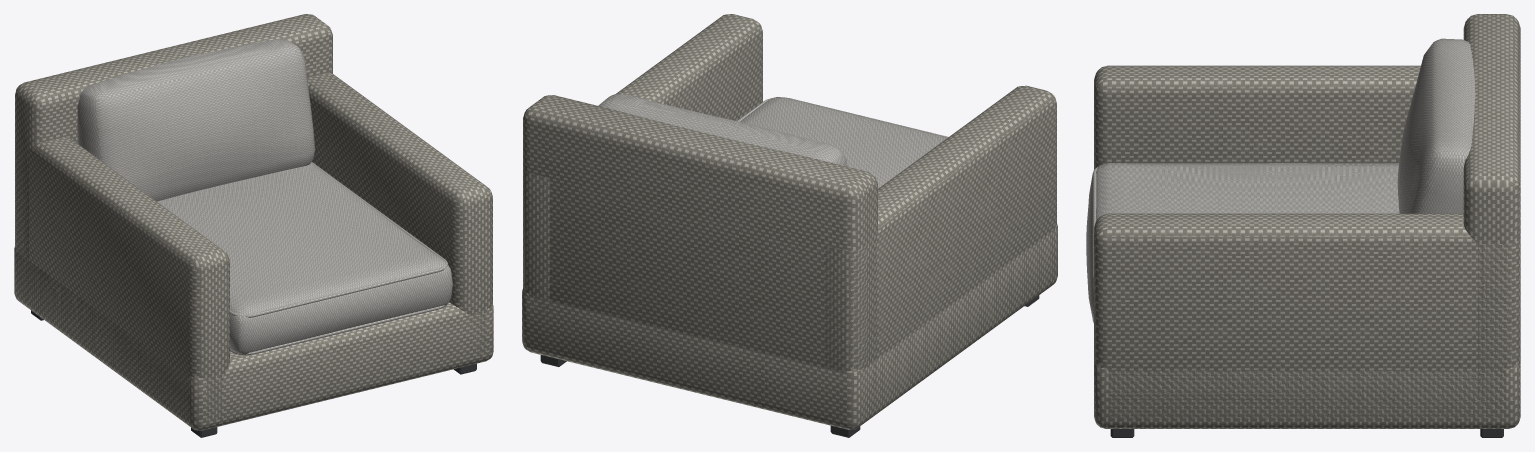
The model's file is sillon_chillout_bajo_gris.glb.
3 renders of one model, left to right at view 1: azimuth 30°, elevation 25°; view 2: azimuth 150°, elevation 25°; view 3: azimuth 270°, elevation 25°, orthographic. The views are drawn at different scales.
Visible parts, largest first — view 1: sillon_chillout_bajo_gris; view 2: sillon_chillout_bajo_gris; view 3: sillon_chillout_bajo_gris.
Boxes of the visible parts, bbox=[...] form: sillon_chillout_bajo_gris: bbox=[14, 14, 493, 437]; sillon_chillout_bajo_gris: bbox=[522, 14, 1057, 437]; sillon_chillout_bajo_gris: bbox=[1086, 14, 1520, 437].
Bounding box in the file's own units: 0.85 × 0.6339 × 0.9162.
3 materials, 2 textured.
